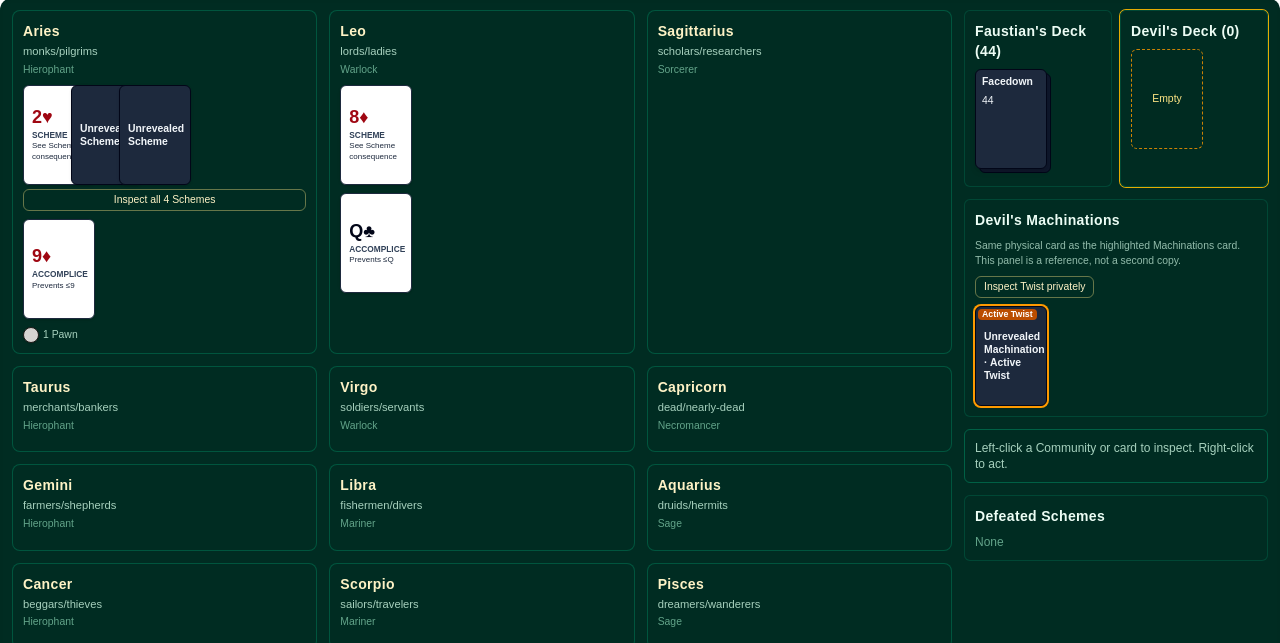
Test: Faustian surface presentation › does not repeat Accomplice identity or glance as inspector headings
(page scrolled)
Click the button "Q♣ Accomplice Prevents ≤Q" at x=376, y=243, box [340, 193, 412, 293]
(page scrolled)
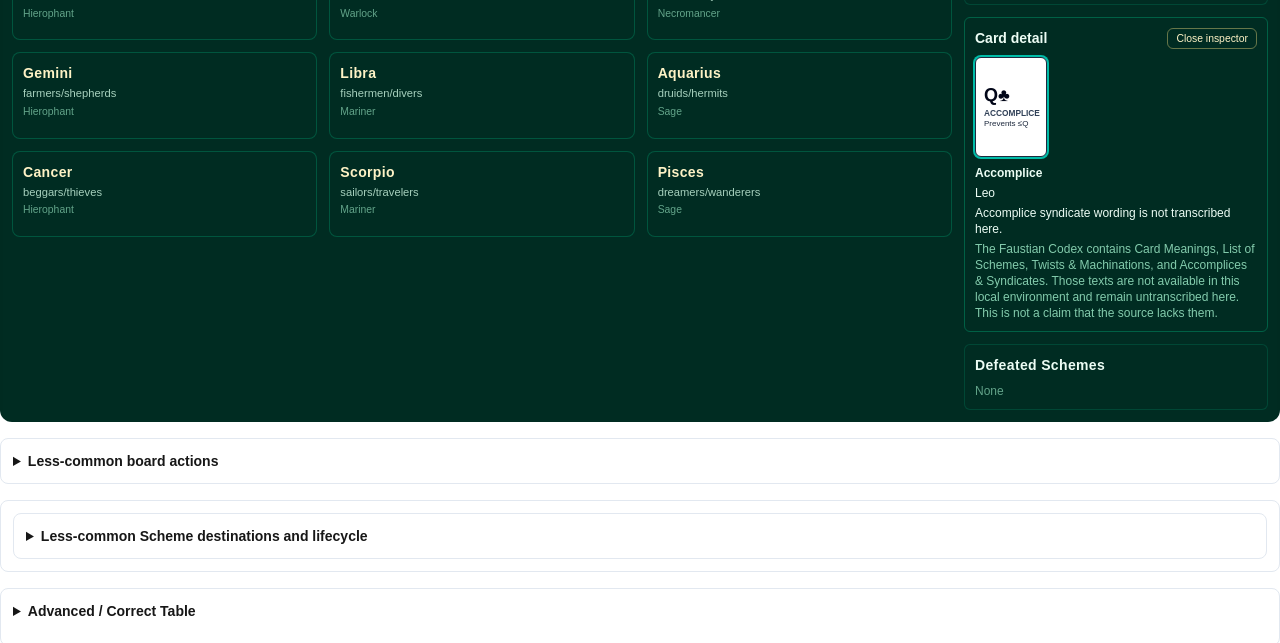
Expected: the text "Queen of Clubs" is not shown
Expected: the 2nd button "Q♣ Accomplice Prevents ≤Q" is shown, [975, 57, 1047, 157]
Expected: the text "Accomplice" is shown, [975, 166, 1042, 180]
